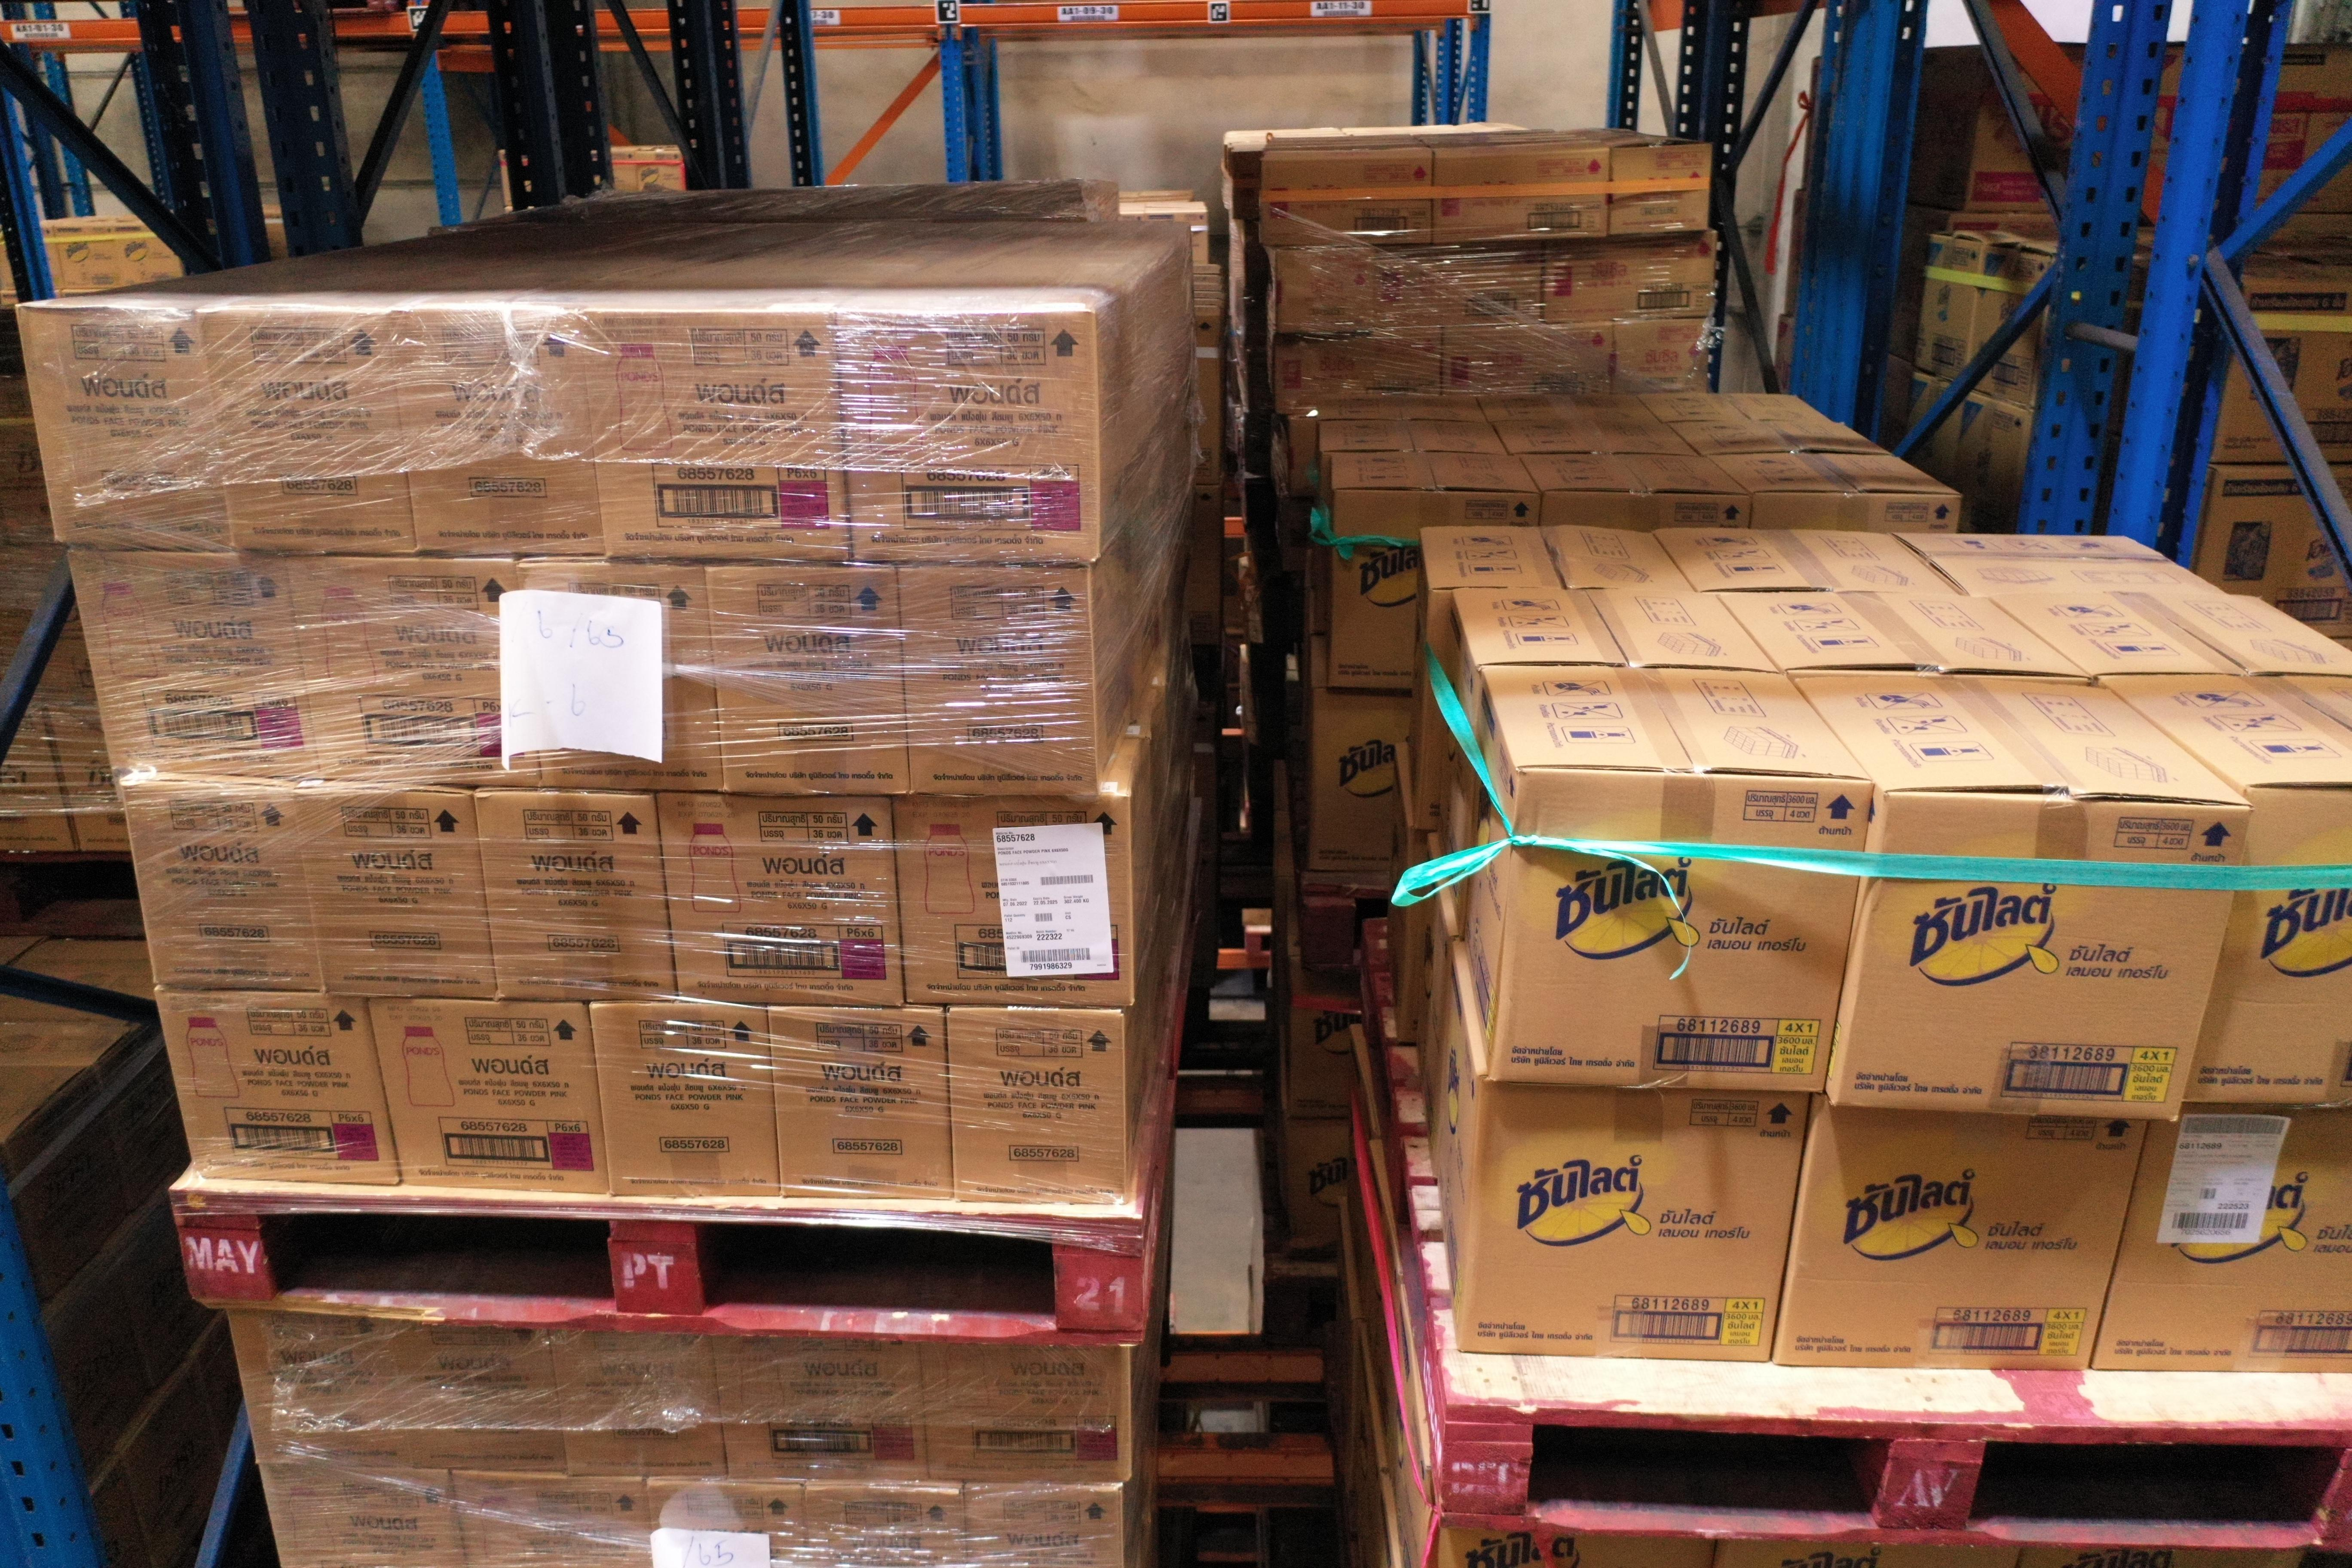-: (1827, 786, 2249, 1127), (1479, 765, 1881, 1106), (1771, 1099, 2156, 1377), (1454, 1078, 1827, 1363), (586, 301, 863, 565), (2091, 1106, 2352, 1381), (65, 546, 362, 786), (835, 306, 1104, 569), (198, 297, 427, 562), (14, 297, 234, 558), (395, 297, 612, 562), (654, 789, 912, 1010), (891, 787, 1139, 1013), (327, 555, 565, 789), (2184, 786, 2352, 1113), (150, 989, 409, 1195), (371, 997, 619, 1206), (705, 555, 912, 803), (894, 555, 1101, 800), (525, 555, 733, 796), (469, 782, 681, 1003), (121, 784, 331, 999), (310, 784, 499, 1003), (766, 997, 959, 1209), (947, 997, 1132, 1216), (590, 997, 780, 1202), (710, 1330, 929, 1486), (915, 1339, 1132, 1486), (224, 1307, 415, 1470), (385, 1319, 569, 1477), (548, 1326, 731, 1480), (259, 1459, 472, 1568), (450, 1470, 658, 1568), (640, 1475, 814, 1568), (959, 1482, 1130, 1568), (805, 1482, 971, 1568)
2: (1431, 145, 1610, 250), (1256, 154, 1433, 250), (1542, 229, 1717, 324), (1370, 240, 1542, 332), (1274, 327, 1444, 420), (1442, 322, 1613, 395), (1610, 142, 1711, 238), (1276, 245, 1374, 334), (1612, 317, 1715, 397)
